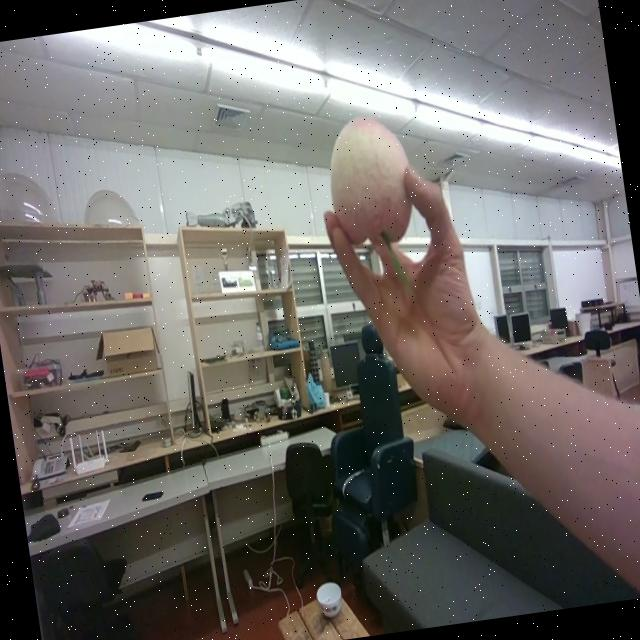peach: (331, 118, 412, 245)
